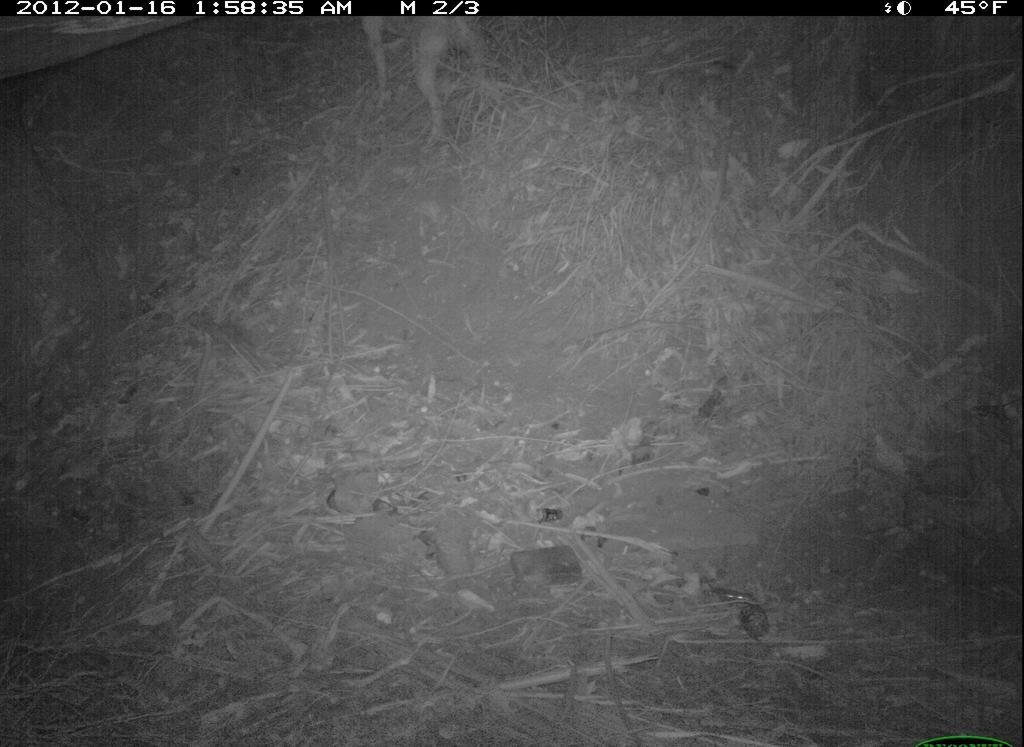dog: (333, 13, 514, 149)
